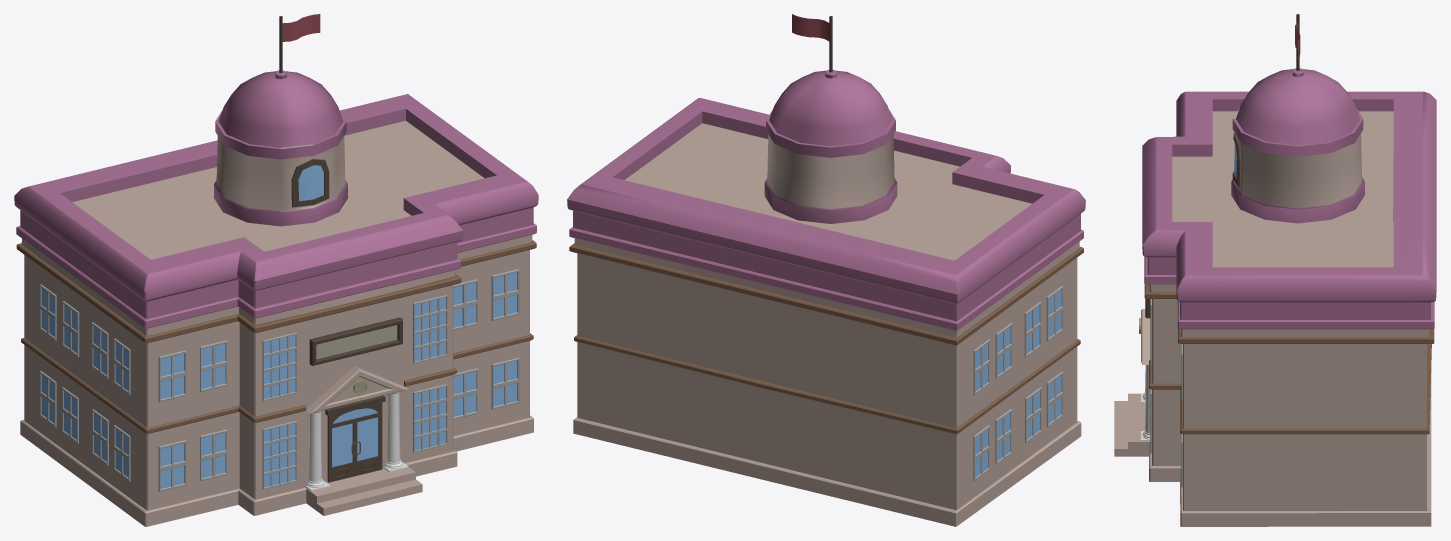
Rendered from Ayuntamiento.fbx.
3 views of the same model, side by side, from view 1: azimuth 30°, elevation 25°; view 2: azimuth 150°, elevation 25°; view 3: azimuth 270°, elevation 25° (orthographic).
Parts seen in each view (by area): view 1: polySurface139, polySurface135, polySurface144, polySurface161, polySurface165, polySurface131, polySurface164, polySurface166, polySurface173, polySurface167, polySurface169, polySurface171 (+15 smaller); view 2: polySurface139, polySurface135, polySurface176, polySurface175, polySurface177, polySurface178, polySurface174, polySurface179, polySurface181, polySurface180, polySurface136; view 3: polySurface139, polySurface135, polySurface145.
Boxes of the visible parts, left/top/right/bottom form: polySurface139: left=14, top=94, right=538, bottom=526; polySurface135: left=214, top=70, right=347, bottom=226; polySurface144: left=325, top=395, right=385, bottom=482; polySurface161: left=309, top=317, right=402, bottom=365; polySurface165: left=262, top=332, right=296, bottom=400; polySurface131: left=413, top=384, right=447, bottom=452; polySurface164: left=413, top=295, right=447, bottom=363; polySurface166: left=262, top=421, right=296, bottom=489; polySurface173: left=491, top=357, right=519, bottom=409; polySurface167: left=158, top=440, right=186, bottom=491; polySurface169: left=158, top=350, right=186, bottom=401; polySurface171: left=491, top=269, right=519, bottom=320; polySurface139: left=567, top=98, right=1085, bottom=526; polySurface135: left=764, top=69, right=897, bottom=223; polySurface176: left=995, top=323, right=1012, bottom=378; polySurface175: left=1024, top=302, right=1041, bottom=357; polySurface177: left=973, top=339, right=989, bottom=394; polySurface178: left=1046, top=371, right=1062, bottom=427; polySurface174: left=1046, top=286, right=1062, bottom=341; polySurface179: left=1025, top=387, right=1041, bottom=442; polySurface181: left=973, top=425, right=989, bottom=480; polySurface180: left=995, top=409, right=1011, bottom=464; polySurface136: left=792, top=14, right=829, bottom=41; polySurface139: left=1114, top=91, right=1436, bottom=526; polySurface135: left=1231, top=68, right=1364, bottom=223; polySurface145: left=1141, top=365, right=1150, bottom=441.
Size of the model in its own units: 2989 by 3039 by 2123.
